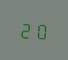two: (19, 19, 32, 39)
zero: (33, 19, 46, 40)
